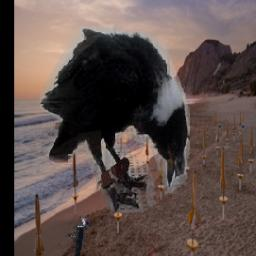Crow: (41, 27, 191, 213)
Woodpecker: (67, 216, 91, 256)
